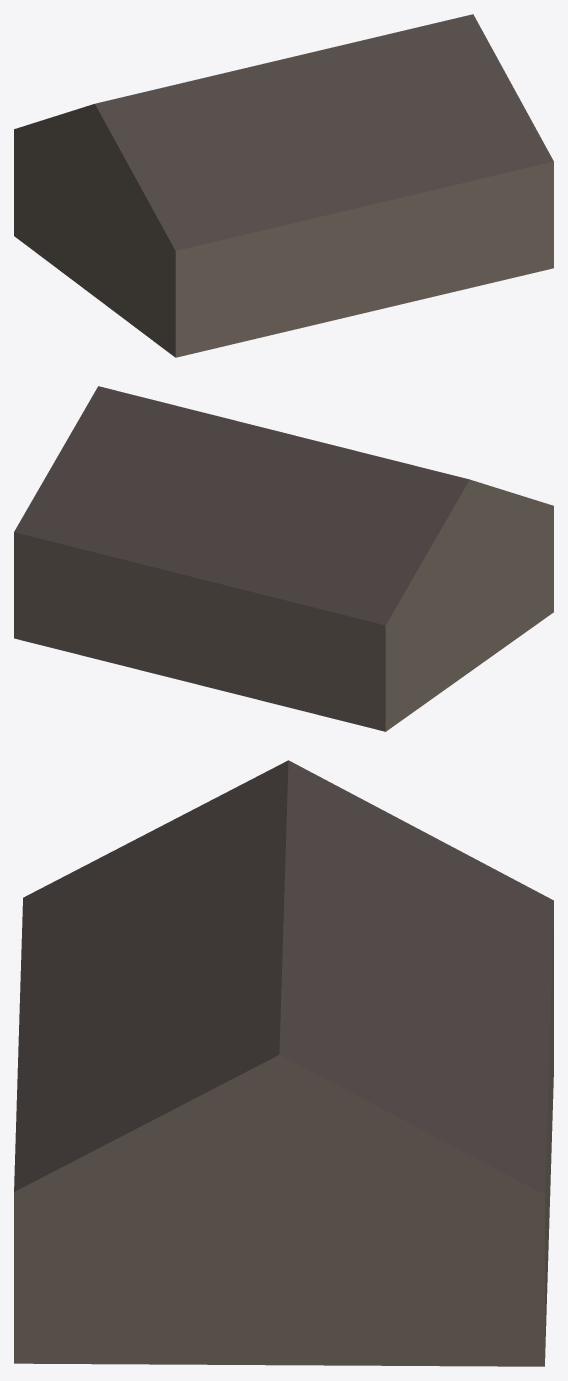
3 renders of one model, top to bottom at view 1: azimuth 30°, elevation 25°; view 2: azimuth 150°, elevation 25°; view 3: azimuth 270°, elevation 25°, orthographic. The views are drawn at different scales.
Visible parts, largest first — view 1: HP-w408450646; view 2: HP-w408450646; view 3: HP-w408450646.
Boxes of the visible parts, x1=… form: HP-w408450646: x1=14, y1=14, x2=553, y2=357; HP-w408450646: x1=14, y1=386, x2=553, y2=731; HP-w408450646: x1=14, y1=760, x2=553, y2=1366.
Size of the model in its own units: 11.16 by 5.43 by 8.56.
